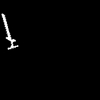double_crochet: (2, 14, 17, 48)
